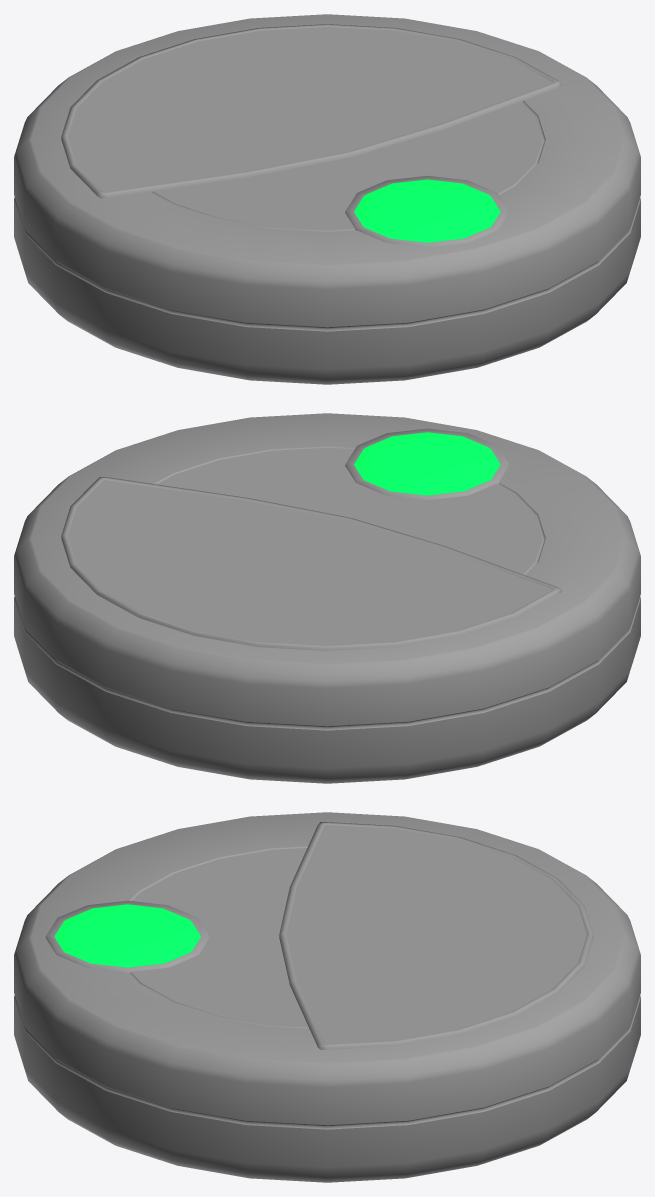
Rendered from roomba.fbx.
3 views of the same model, one above another, from view 1: azimuth 30°, elevation 25°; view 2: azimuth 150°, elevation 25°; view 3: azimuth 270°, elevation 25° (orthographic).
Visible parts, largest first — view 1: Base; view 2: Base; view 3: Base.
Part boxes in pixels (bbox=[...]): Base: bbox=[14, 14, 640, 384]; Base: bbox=[14, 413, 640, 783]; Base: bbox=[14, 812, 640, 1182].
Size of the model in its own units: 70 by 16.5 by 70.
